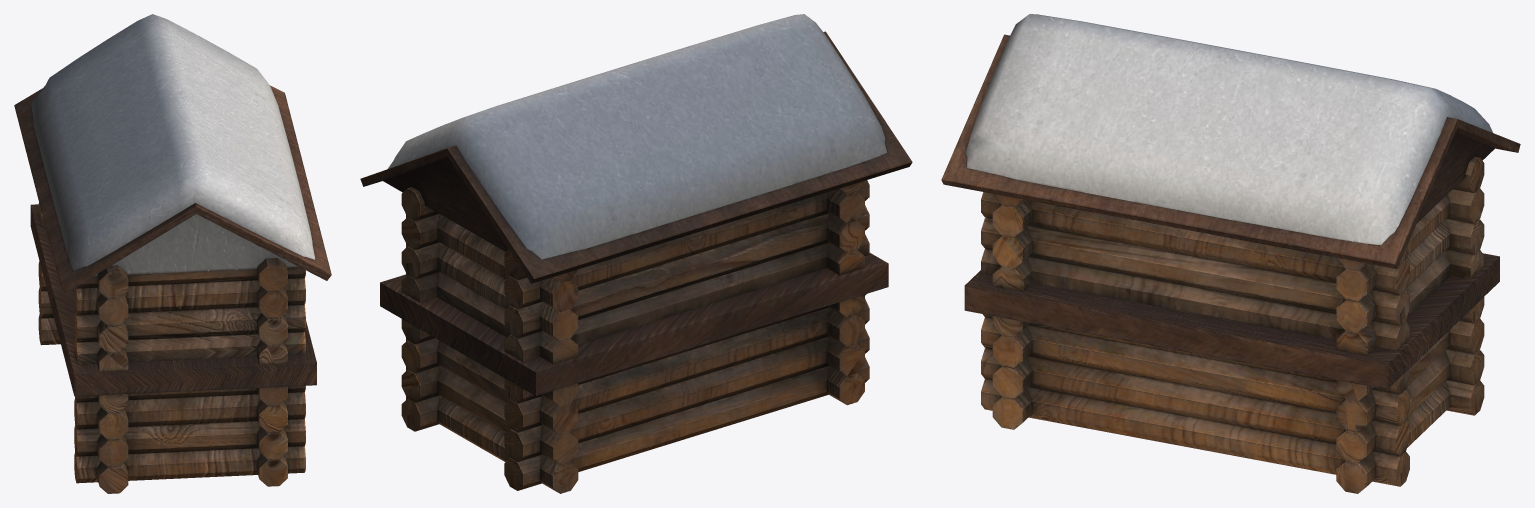
The model's file is track5Building3.glb.
3 renders of one model, left to right at view 1: azimuth 30°, elevation 25°; view 2: azimuth 150°, elevation 25°; view 3: azimuth 270°, elevation 25°, orthographic. The views are drawn at different scales.
Parts seen in each view (by area): view 1: snow_roof.001; view 2: snow_roof.001; view 3: snow_roof.001.
Part boxes in pixels (x1,y1,x2,y2): snow_roof.001: [14, 14, 331, 493]; snow_roof.001: [360, 14, 912, 493]; snow_roof.001: [941, 14, 1520, 493].
Size of the model in its own units: 5.28 by 4.32 by 6.3.
1 material, 1 textured.
